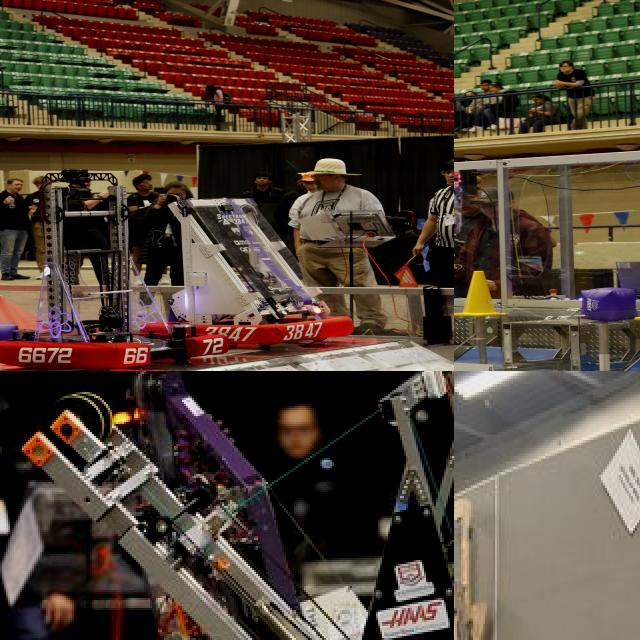FRC-Robots: (16, 395, 454, 640), (58, 371, 290, 640), (113, 178, 384, 358), (0, 175, 247, 371), (507, 405, 640, 640)
